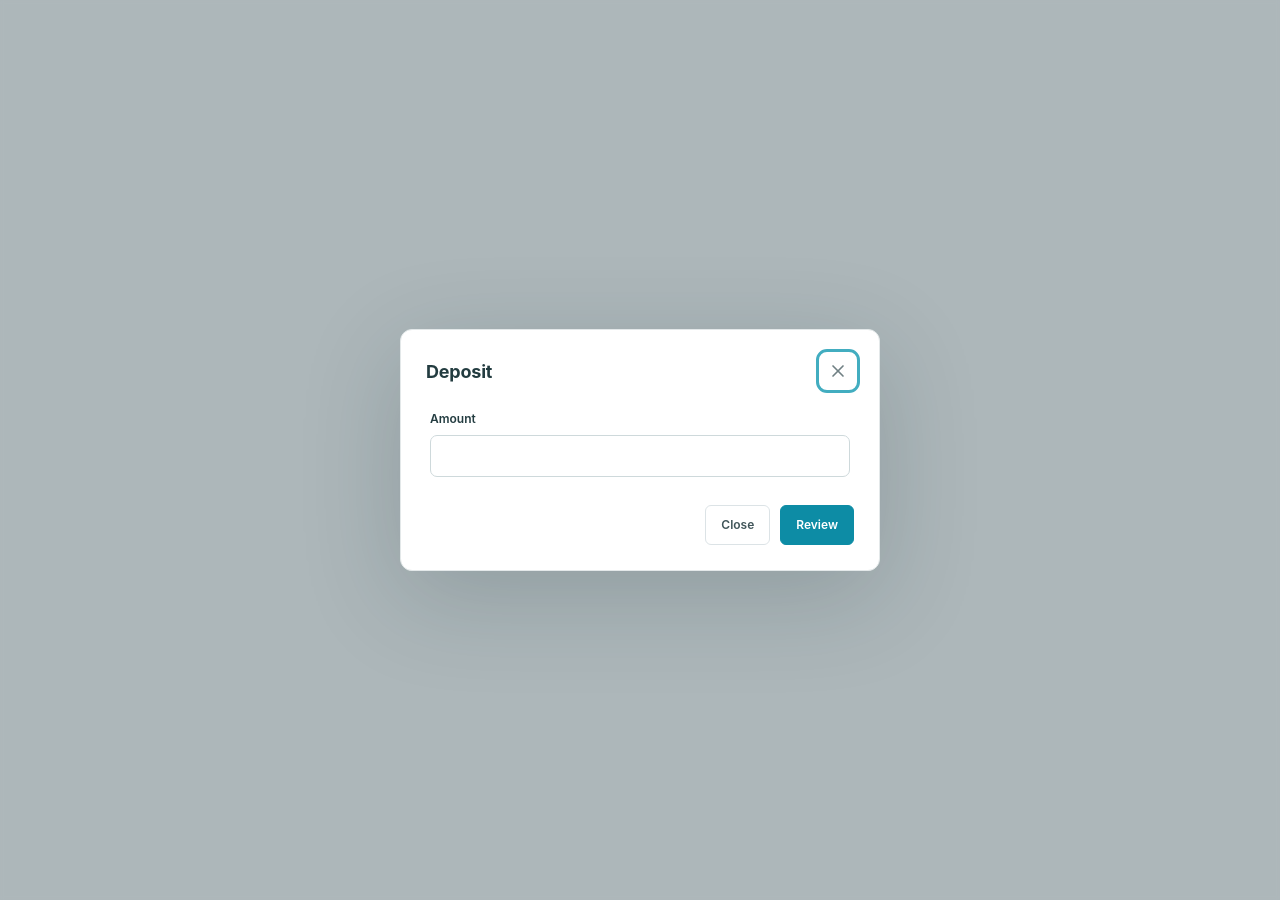
Test: financial operation review › requires review and keeps decimal input as a string
The image size is (1280, 900).
Type "900719925474.12" into the field labelled "Amount".
click(640, 456); type("900719925474.12")  # box [430,435,850,477]
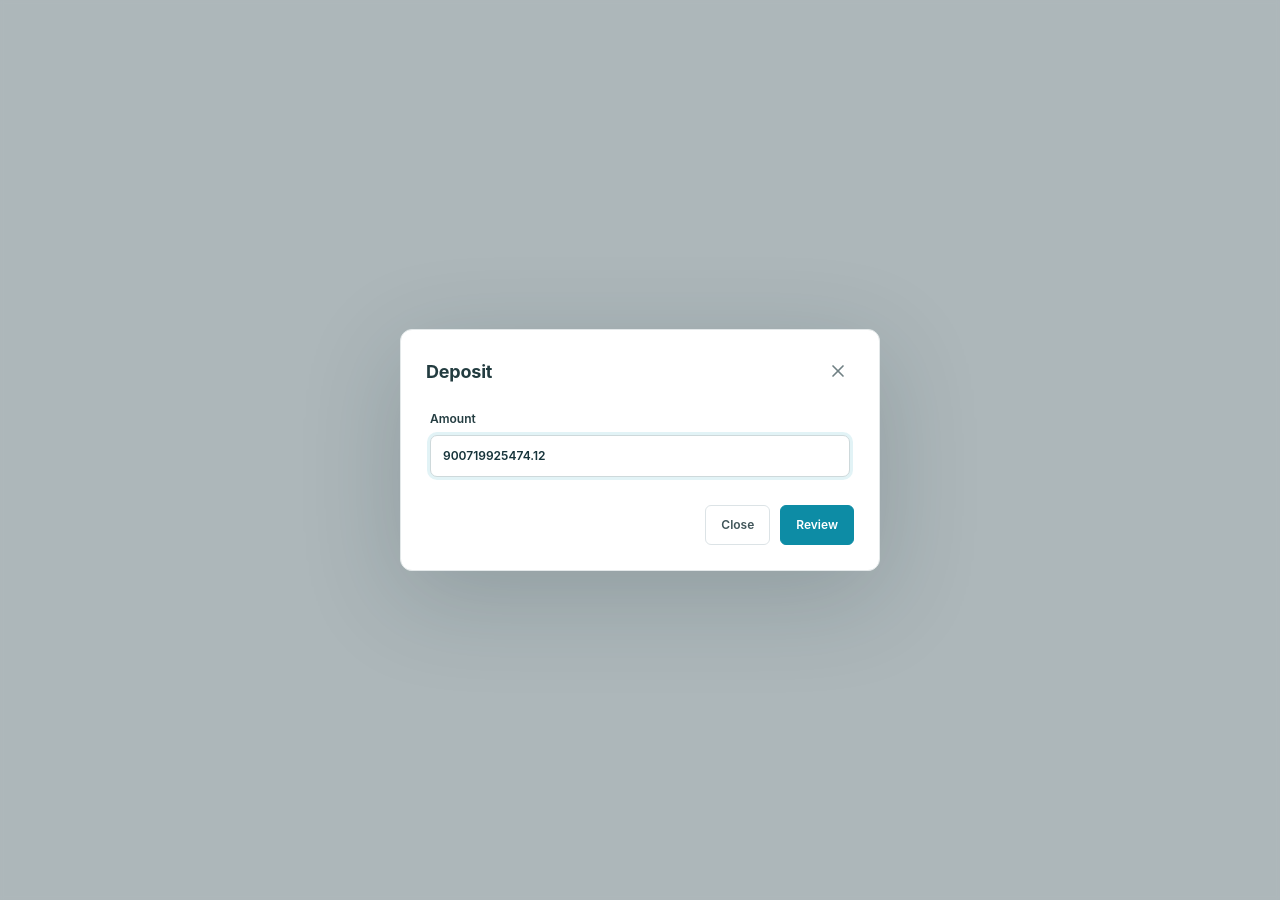
Click the button "Review".
click(817, 525)  # box [780,505,854,545]
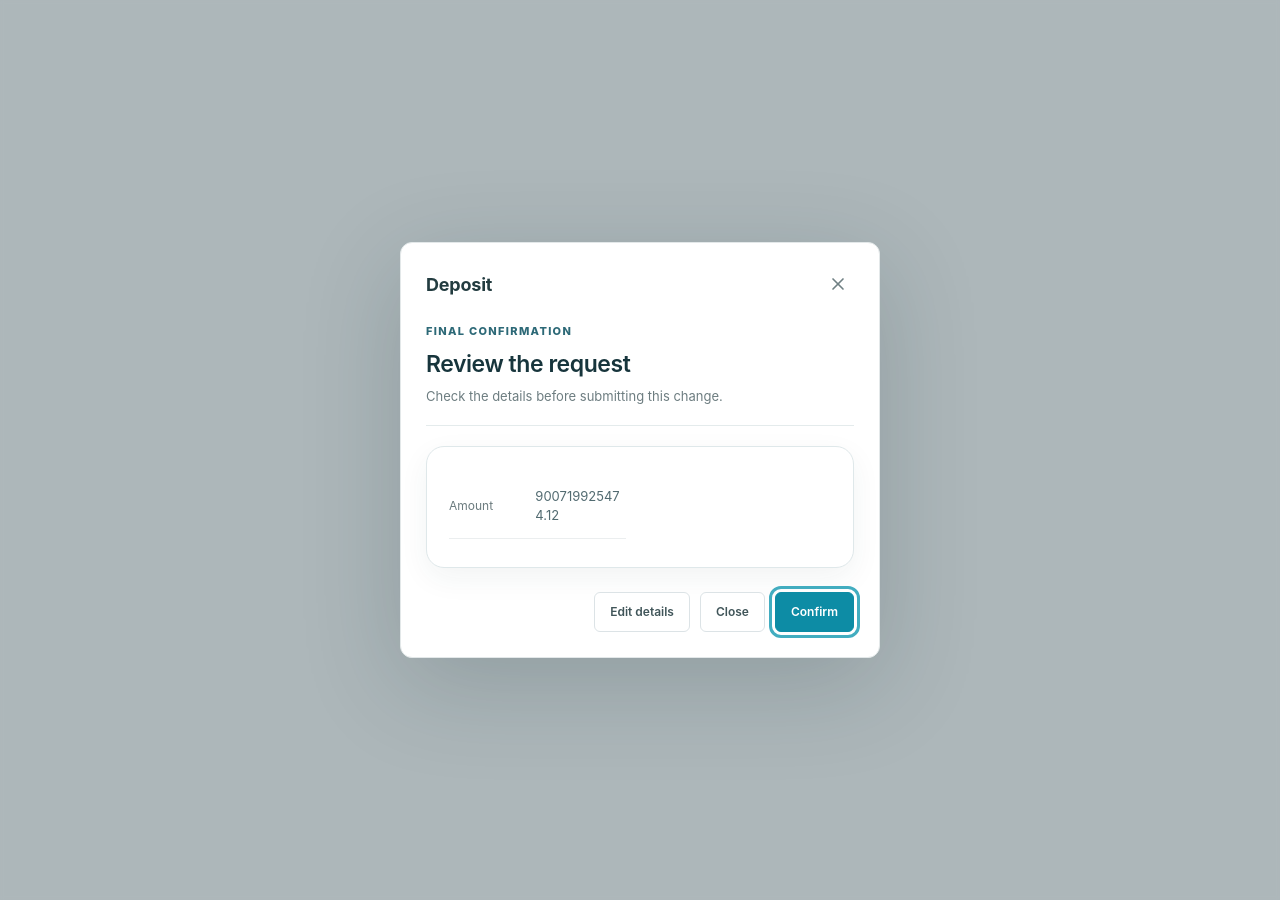
Expected: the text "900719925474.12" is shown, [535,488,620,523]
Click the button "Confirm".
click(814, 612)  # box [775,592,854,632]
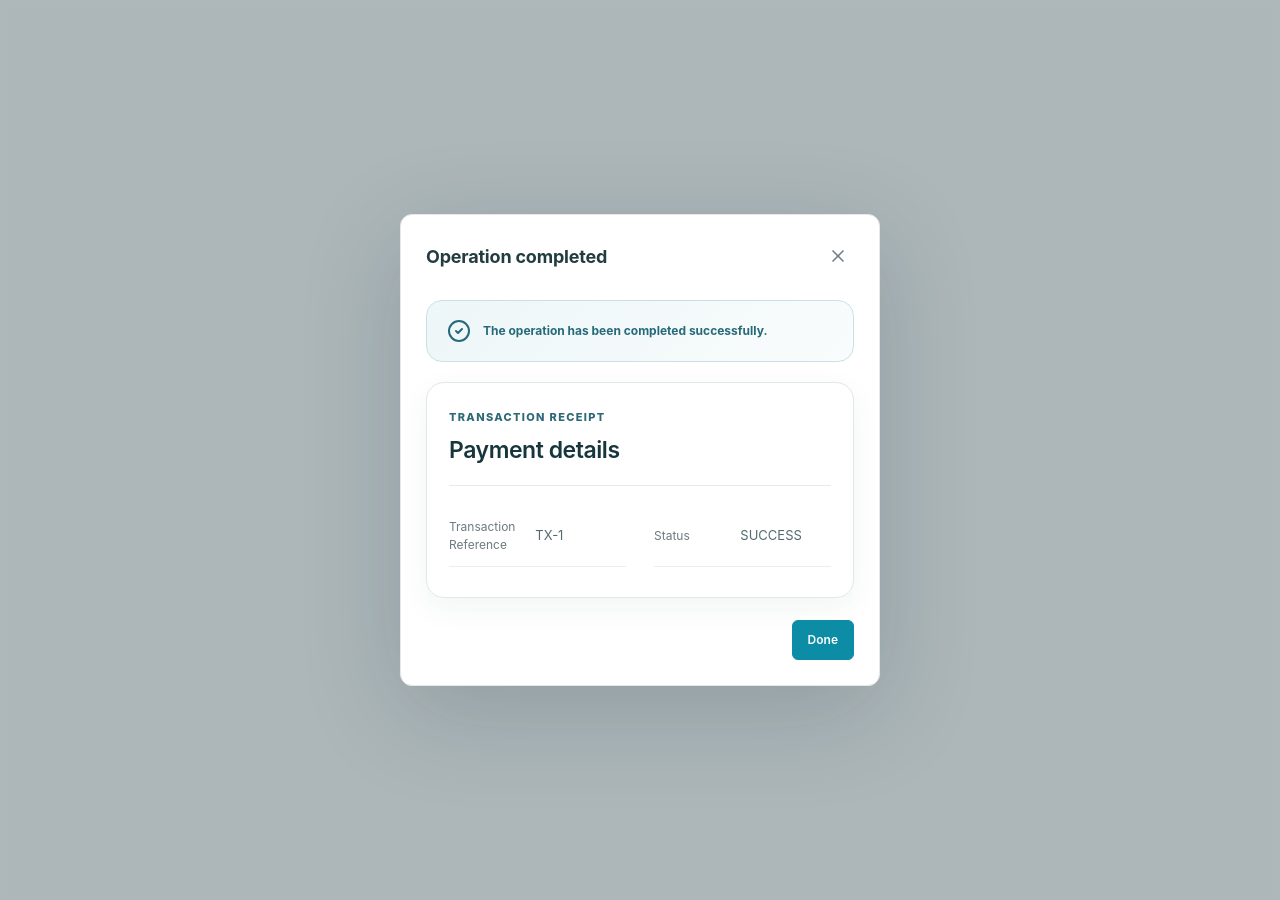
Expected: the text "TX-1" is shown, [535,527,563,543]
